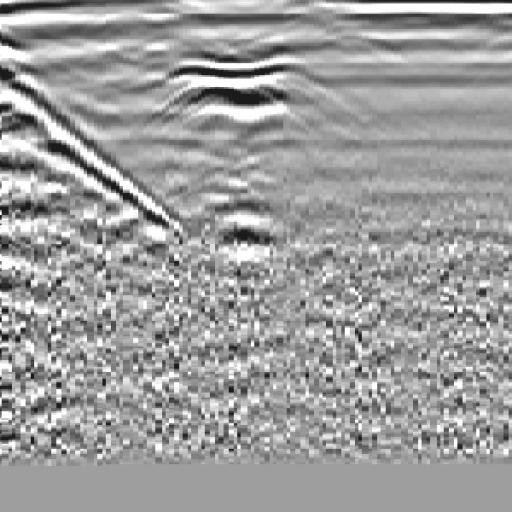metalic: (126, 19, 354, 156)
